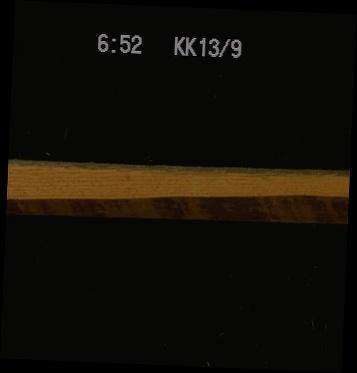wave: (6, 199, 347, 220), (13, 163, 348, 180)
